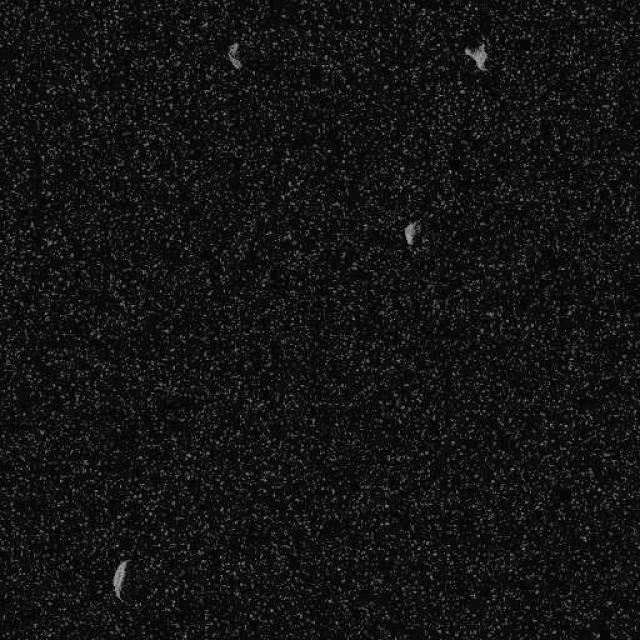D2: (462, 41, 488, 71), (111, 558, 129, 600), (225, 41, 244, 70), (402, 219, 420, 246)
